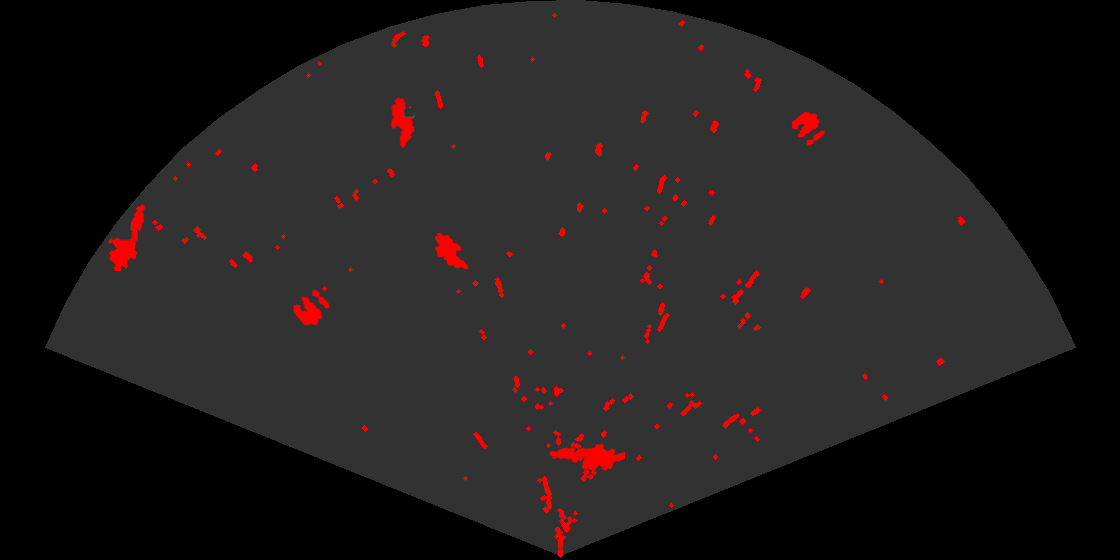AUV: (389, 95, 417, 150), (433, 231, 470, 271)
ball: (292, 288, 332, 327), (790, 110, 826, 147)
frogman: (548, 442, 625, 477), (107, 203, 146, 271)
